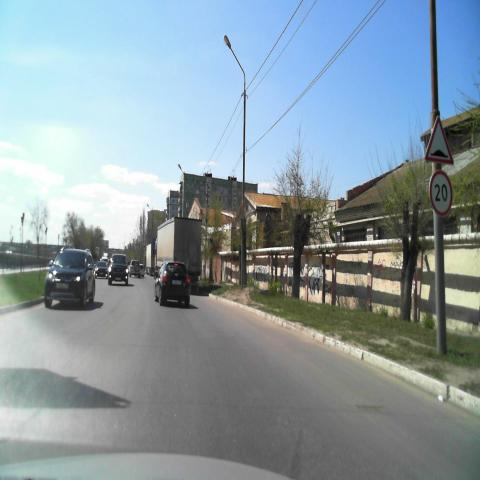1_17: (424, 115, 454, 165)
3_24: (428, 170, 452, 217)
